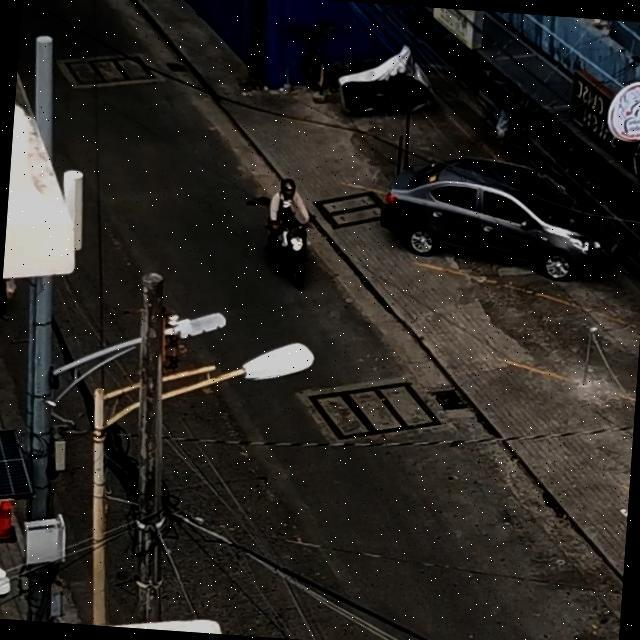Motorcycle: (249, 191, 313, 290)
